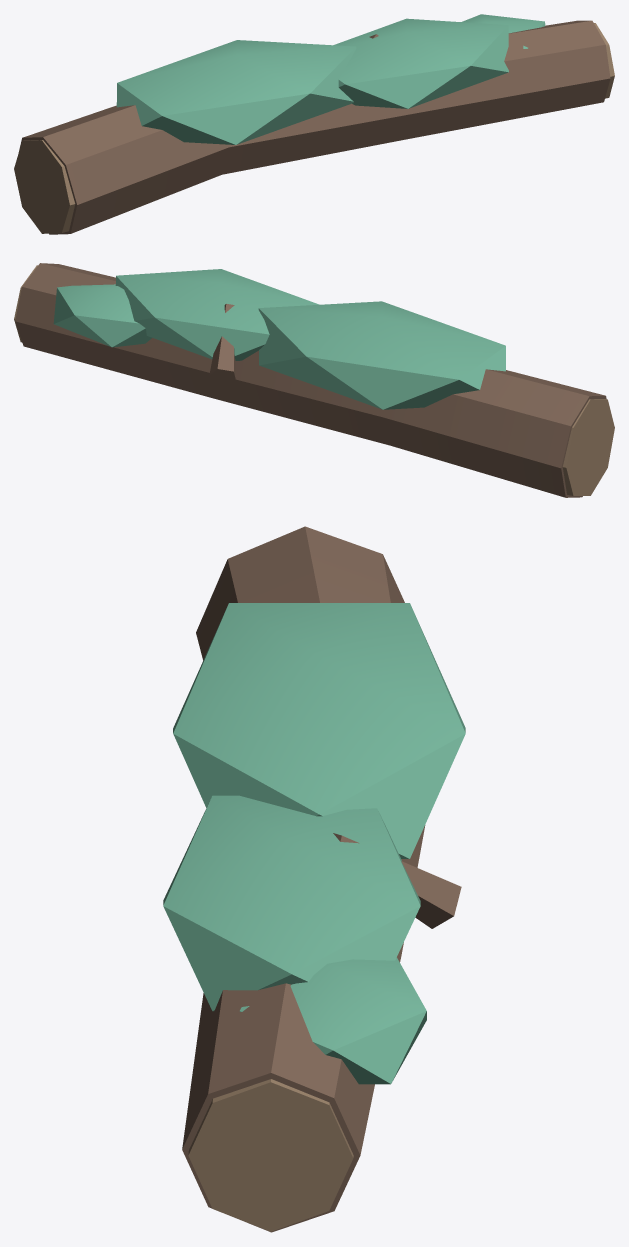
The model's file is glimmerwood_mossy_log.glb.
The picture shows the model from 3 angles, top to bottom: view 1: azimuth 30°, elevation 25°; view 2: azimuth 150°, elevation 25°; view 3: azimuth 270°, elevation 25°; orthographic projection. The views are drawn at different scales.
Parts seen in each view (by area): view 1: glimmerwood_mossy_log; view 2: glimmerwood_mossy_log; view 3: glimmerwood_mossy_log.
Boxes of the visible parts, x1,y1,x2,y2 form: glimmerwood_mossy_log: (14, 14, 614, 234); glimmerwood_mossy_log: (14, 263, 614, 497); glimmerwood_mossy_log: (163, 526, 465, 1232).
Bounding box in the file's own units: 1.84 × 0.4196 × 0.4398.
